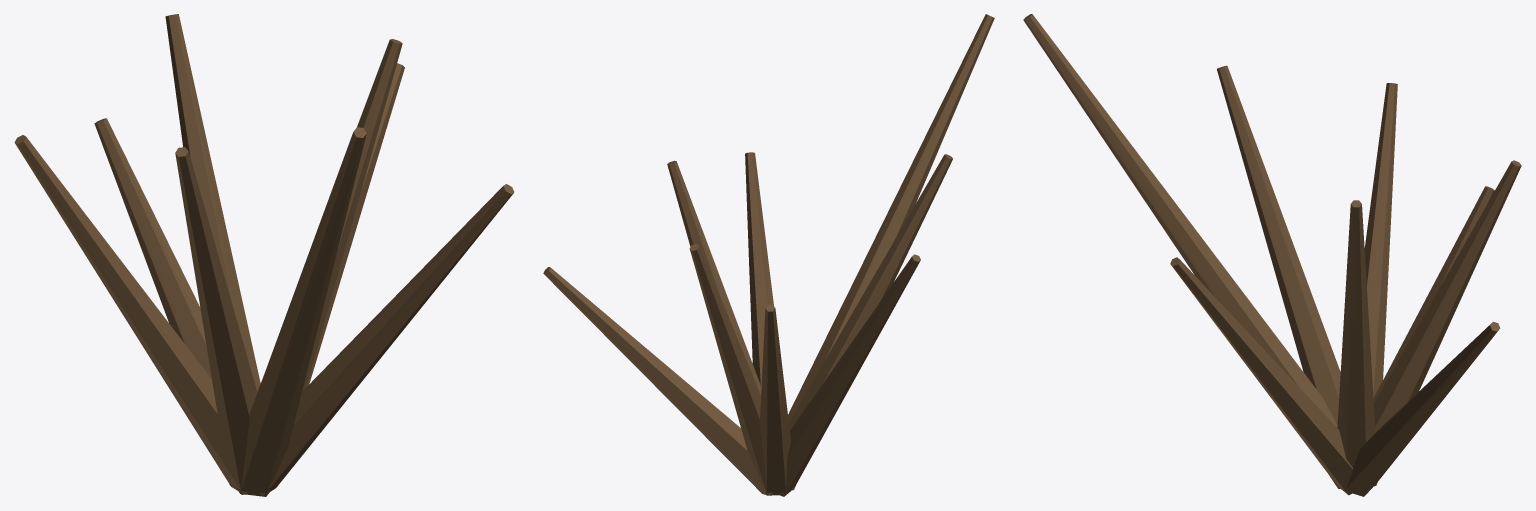
File: dry_shrub.glb
The picture shows the model from 3 angles, left to right: view 1: azimuth 30°, elevation 25°; view 2: azimuth 150°, elevation 25°; view 3: azimuth 270°, elevation 25°; orthographic projection. The views are drawn at different scales.
Visible parts, largest first — view 1: world-scenery/dry_shrub; view 2: world-scenery/dry_shrub; view 3: world-scenery/dry_shrub.
Boxes of the visible parts, bbox=[...] form: world-scenery/dry_shrub: bbox=[14, 14, 514, 496]; world-scenery/dry_shrub: bbox=[543, 14, 994, 496]; world-scenery/dry_shrub: bbox=[1023, 14, 1521, 496].
Bounding box in the file's own units: 0.6879 × 0.7766 × 0.7979.
